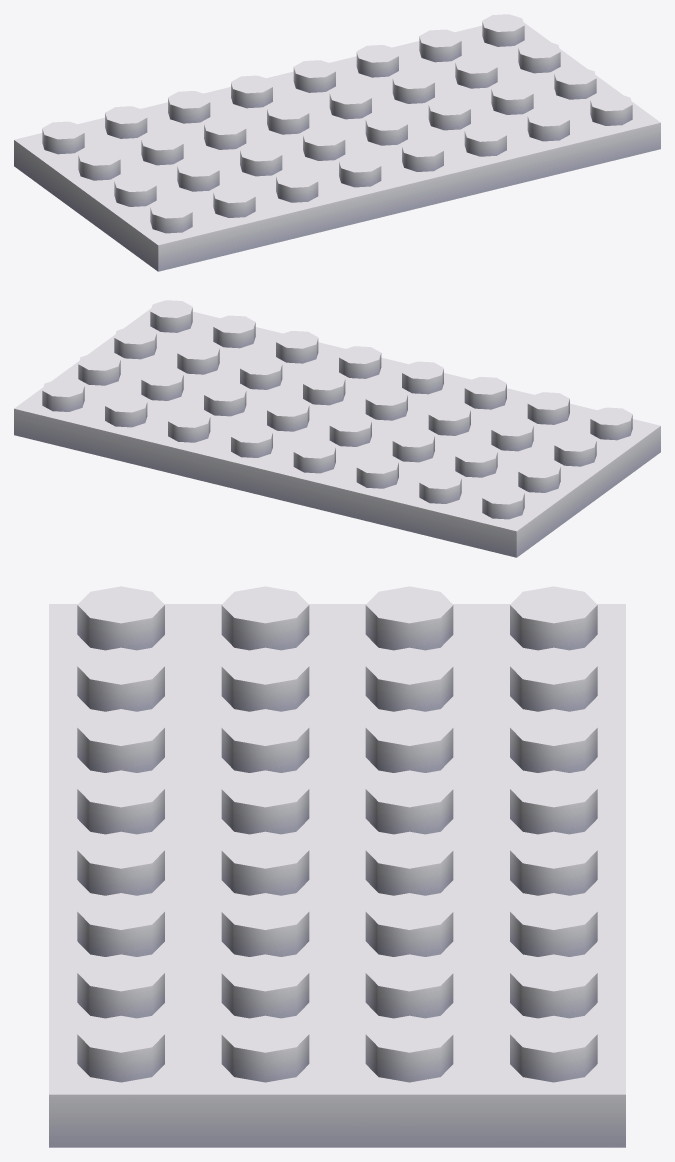
Rendered from round-lq-plate-4x8.glb.
The picture shows the model from 3 angles, top to bottom: view 1: azimuth 30°, elevation 25°; view 2: azimuth 150°, elevation 25°; view 3: azimuth 270°, elevation 25°; orthographic projection. The views are drawn at different scales.
Visible parts, largest first — view 1: round-lq-plate-4x8; view 2: round-lq-plate-4x8; view 3: round-lq-plate-4x8.
Boxes of the visible parts, x1,y1,x2,y2 form: round-lq-plate-4x8: (14,14,660,271); round-lq-plate-4x8: (14,300,660,557); round-lq-plate-4x8: (49,586,625,1147).
Bounding box in the file's own units: 0.636 × 0.05 × 0.316.
Materials: 1 (1 with a texture image).
